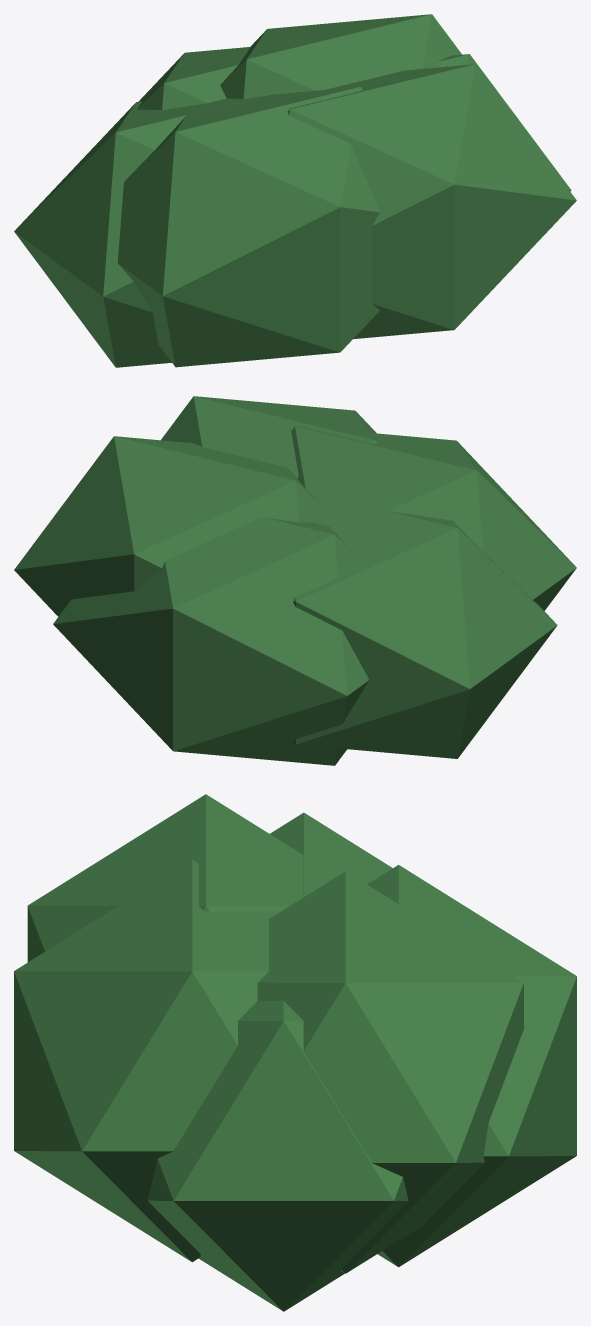
The model's file is tropical-bush.glb.
3 renders of one model, top to bottom at view 1: azimuth 30°, elevation 25°; view 2: azimuth 150°, elevation 25°; view 3: azimuth 270°, elevation 25°, orthographic. The views are drawn at different scales.
Visible parts, largest first — view 1: Тропический кустарник; view 2: Тропический кустарник; view 3: Тропический кустарник.
Boxes of the visible parts, box(x1,y1,x2,y2) form: Тропический кустарник: box(14, 14, 576, 367); Тропический кустарник: box(14, 396, 576, 765); Тропический кустарник: box(14, 794, 576, 1311).
Bounding box in the file's own units: 3.13 × 1.69 × 2.69.
